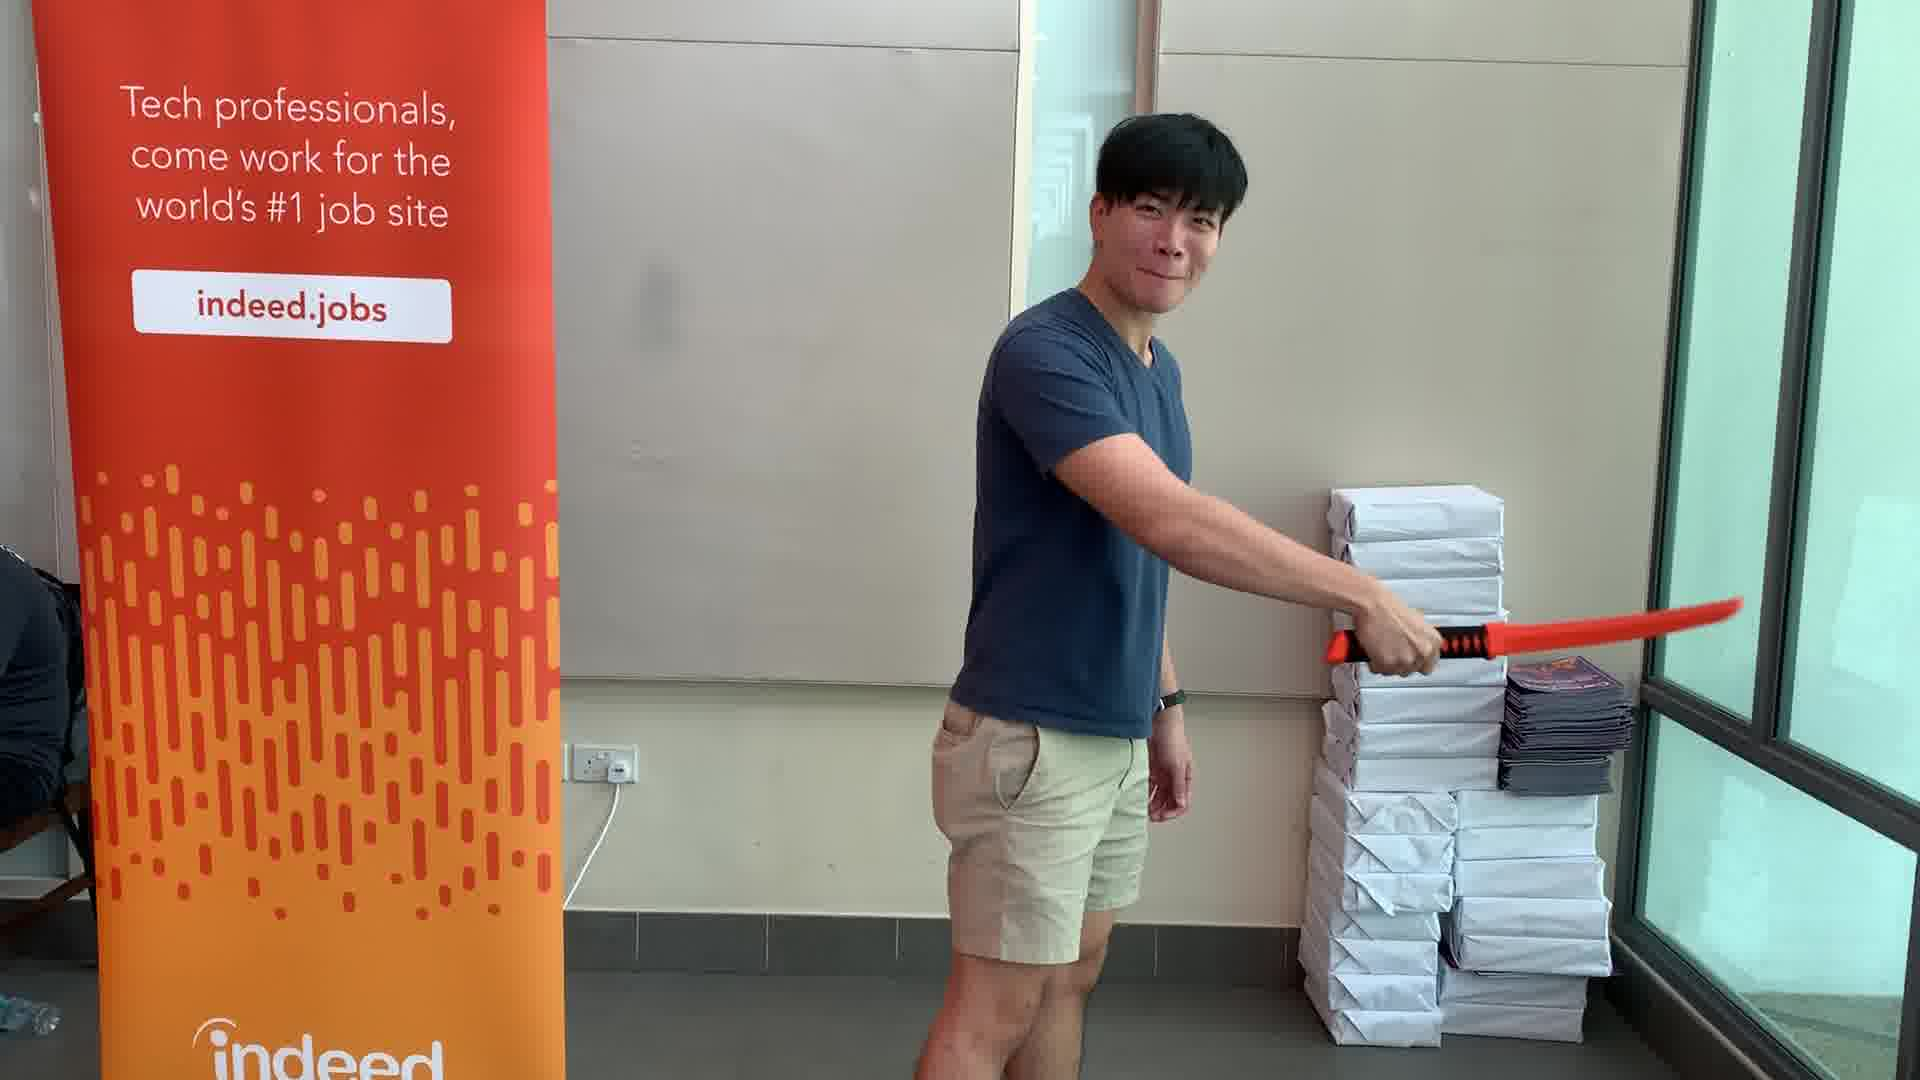knife: (1316, 585, 1759, 680)
